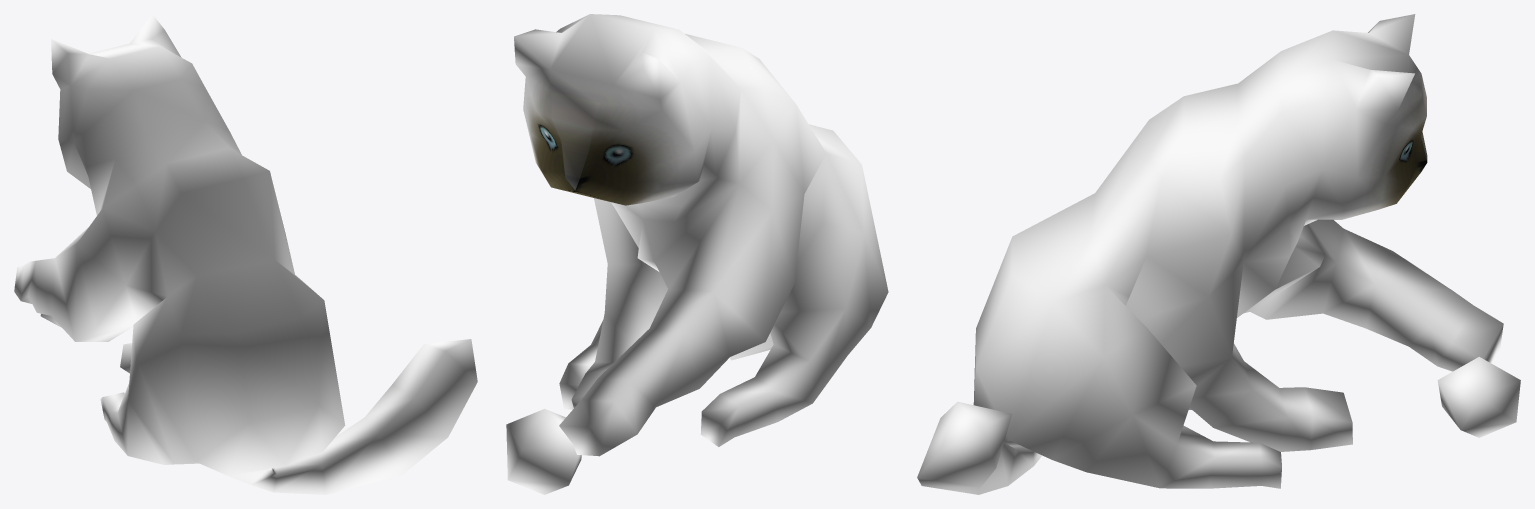
File: icon.ico.obj
3 renders of one model, left to right at view 1: azimuth 30°, elevation 25°; view 2: azimuth 150°, elevation 25°; view 3: azimuth 270°, elevation 25°, orthographic. The views are drawn at different scales.
Size of the model in its own units: 1.94 by 2.24 by 2.97.
1 material, 1 textured.
